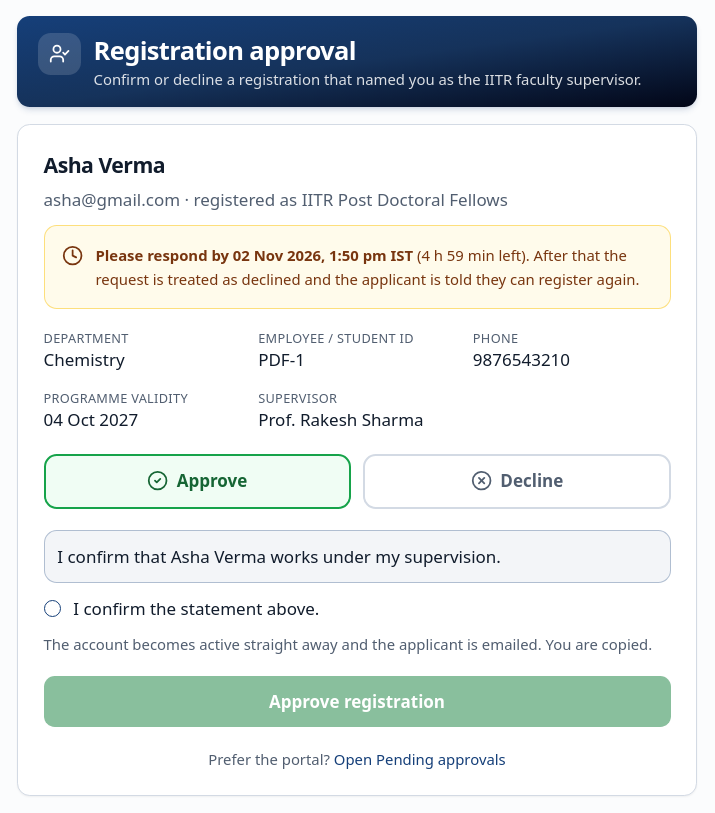
Test: Registration decision from the faculty email › switches to the timed-out state when the window closes while the page is open
Click the checkbox at (52,608), box [44, 600, 60, 617]
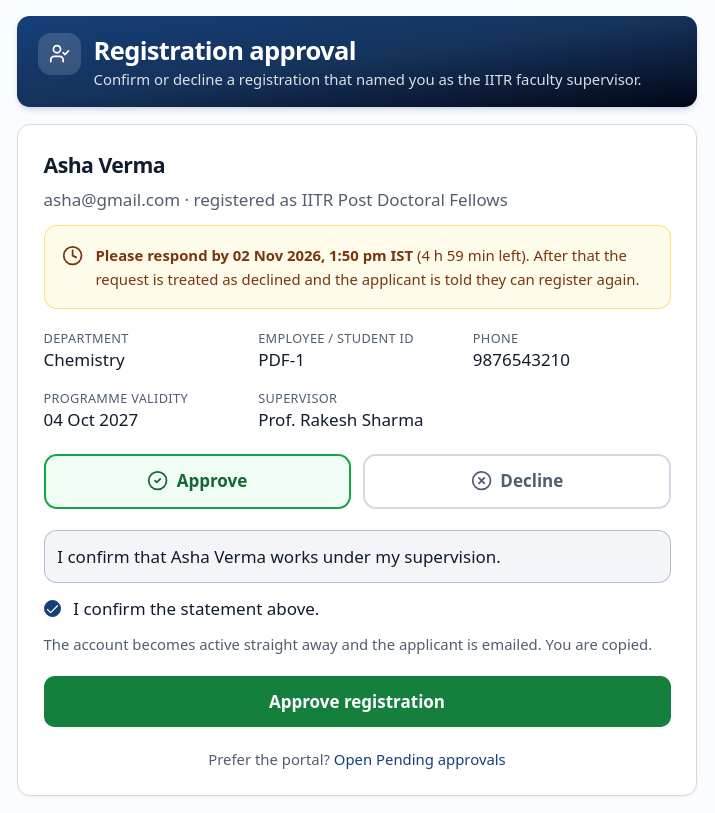
Click the button "Approve registration" at (357,702), box [44, 676, 670, 727]
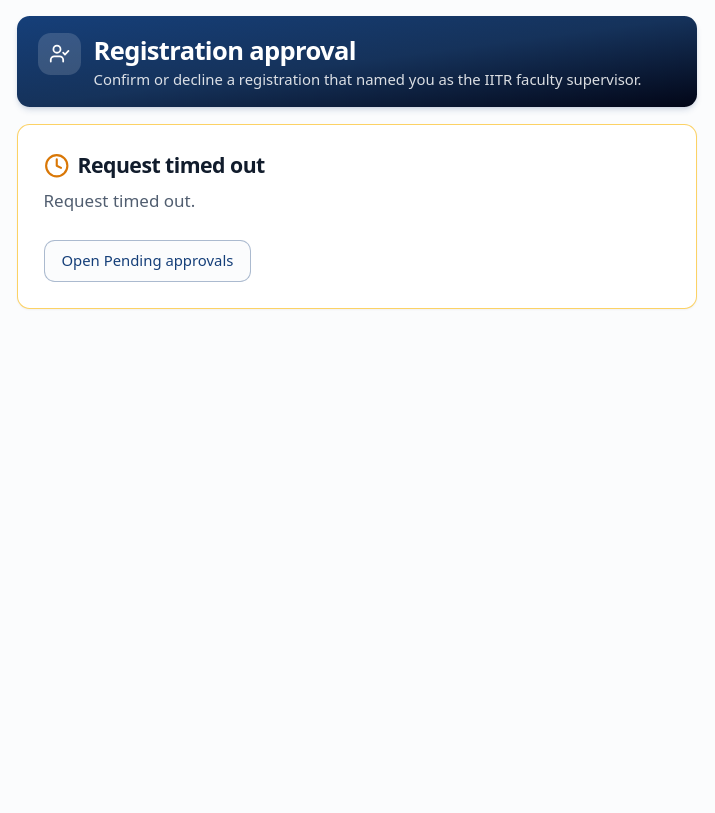
Check: the text "Request timed out" is shown, box [44, 150, 265, 179]
